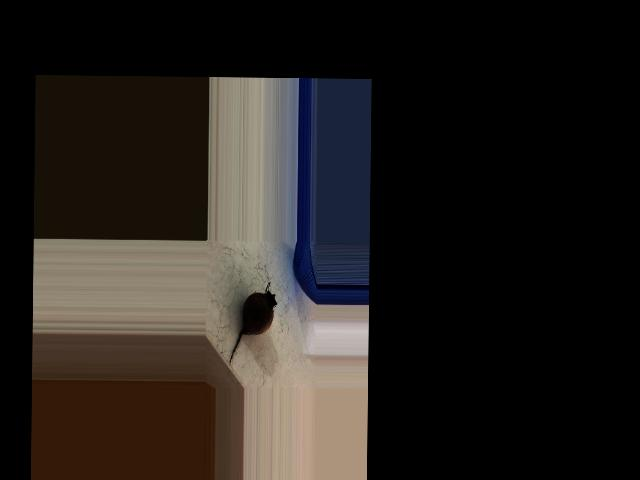beet: (228, 282, 276, 366)
